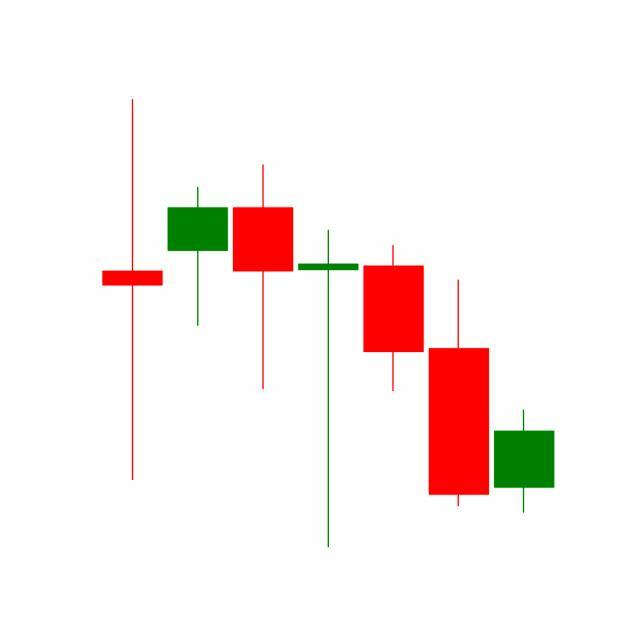Hikkake Pattern: (165, 160, 492, 548)
